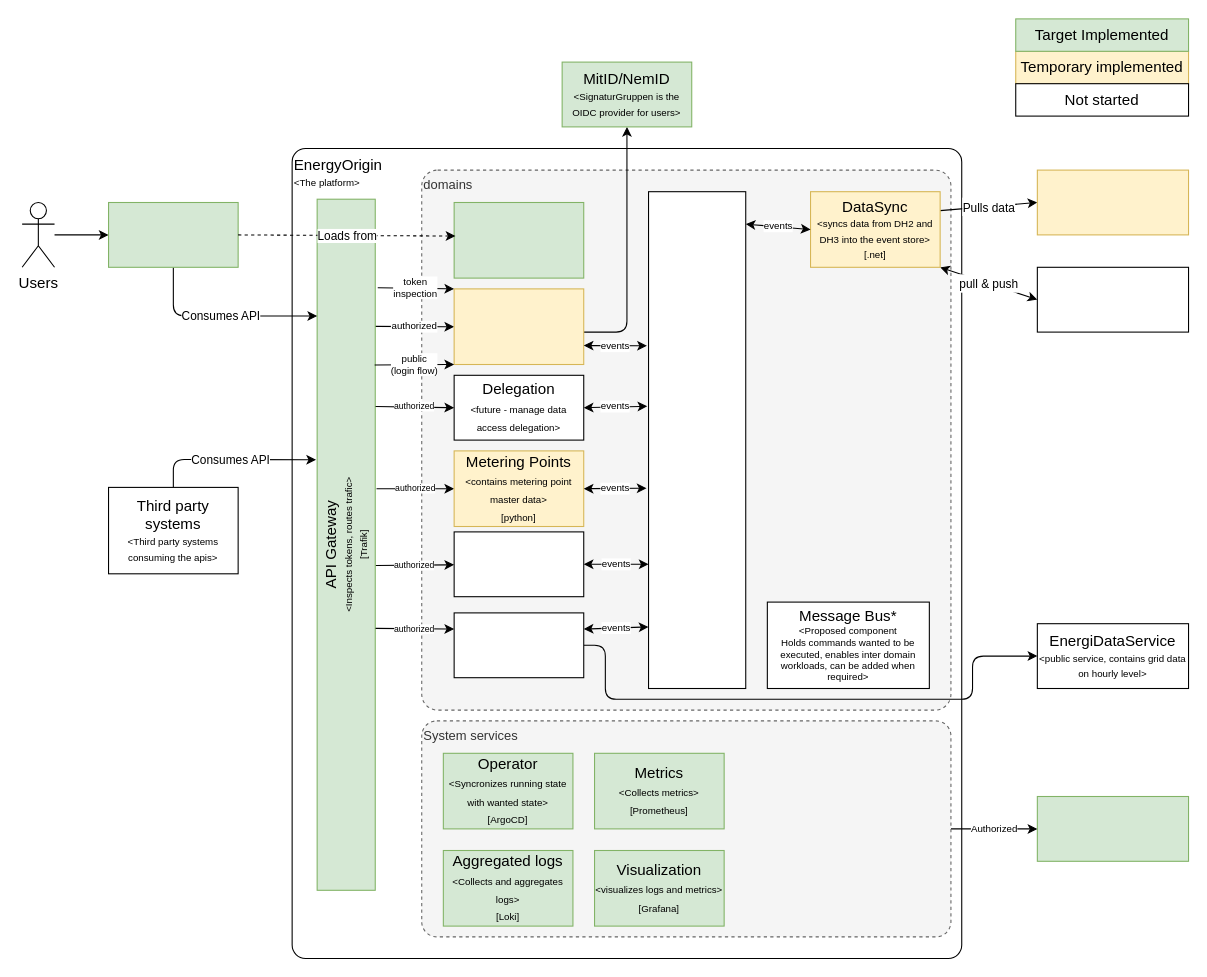
Some shapes in this 1207 by 977 pixel diagram are drawn without their labels. Here are the shapes that lost their labels. From the top down, the centre of each, then its label:
At point 1112,202: "DataHub2 <Contains consumer master data and meter data>".
At point 172,234: "Frontend SPA <Rendered frontend> [angular and typescript]".
At point 518,239: "Frontend Server <Serves frontend html, javascript to browsers> [nginx]".
At point 1112,299: "DataHub3 <Will superceed DataHub2>".
At point 518,326: "Auth <User authentication, JWT issuance, onboarding> [python+psql]".
At point 696,439: "Event Store <Holds data as events>".
At point 518,564: "Measurements <holds measurements data>".
At point 518,645: "Emissions <holds measurements data>".
At point 1112,828: "Azure AD <AzureAD is the OIDC provider for administrative users>".
